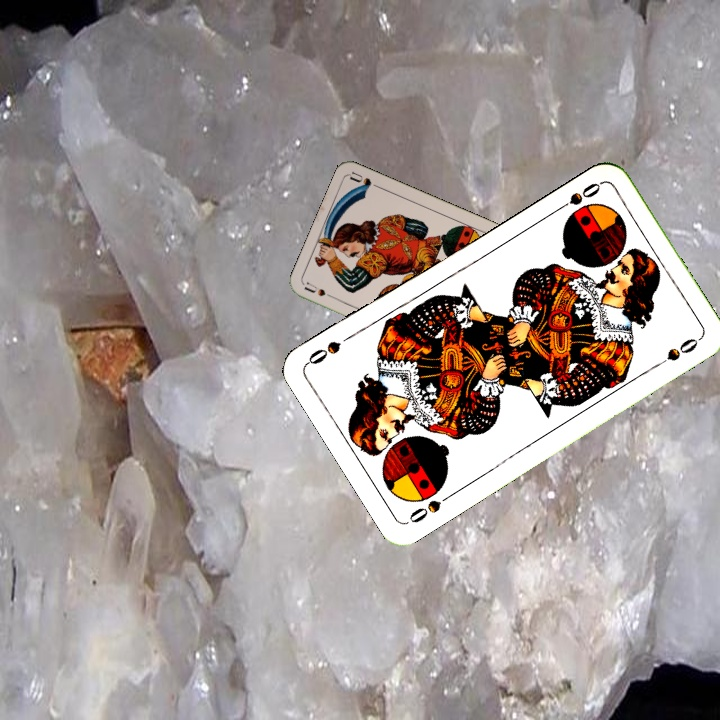SO: (551, 178, 604, 215), (403, 489, 456, 526)
SU: (301, 278, 341, 303)
